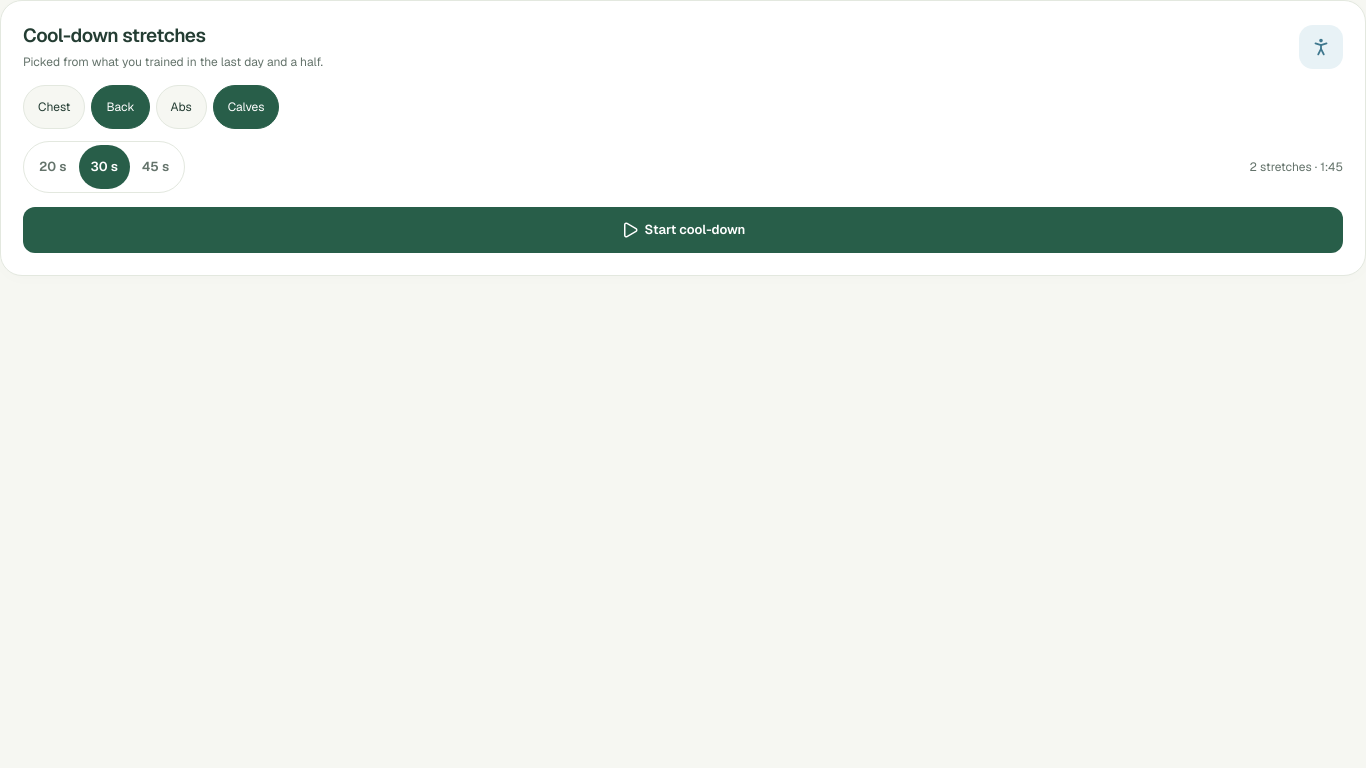
Test: Cool-down stretches › counts each side as its own hold
The width and height of the screenshot is (1366, 768).
Click the button "Start cool-down": point(683, 230) x1=23 y1=207 x2=1343 y2=253
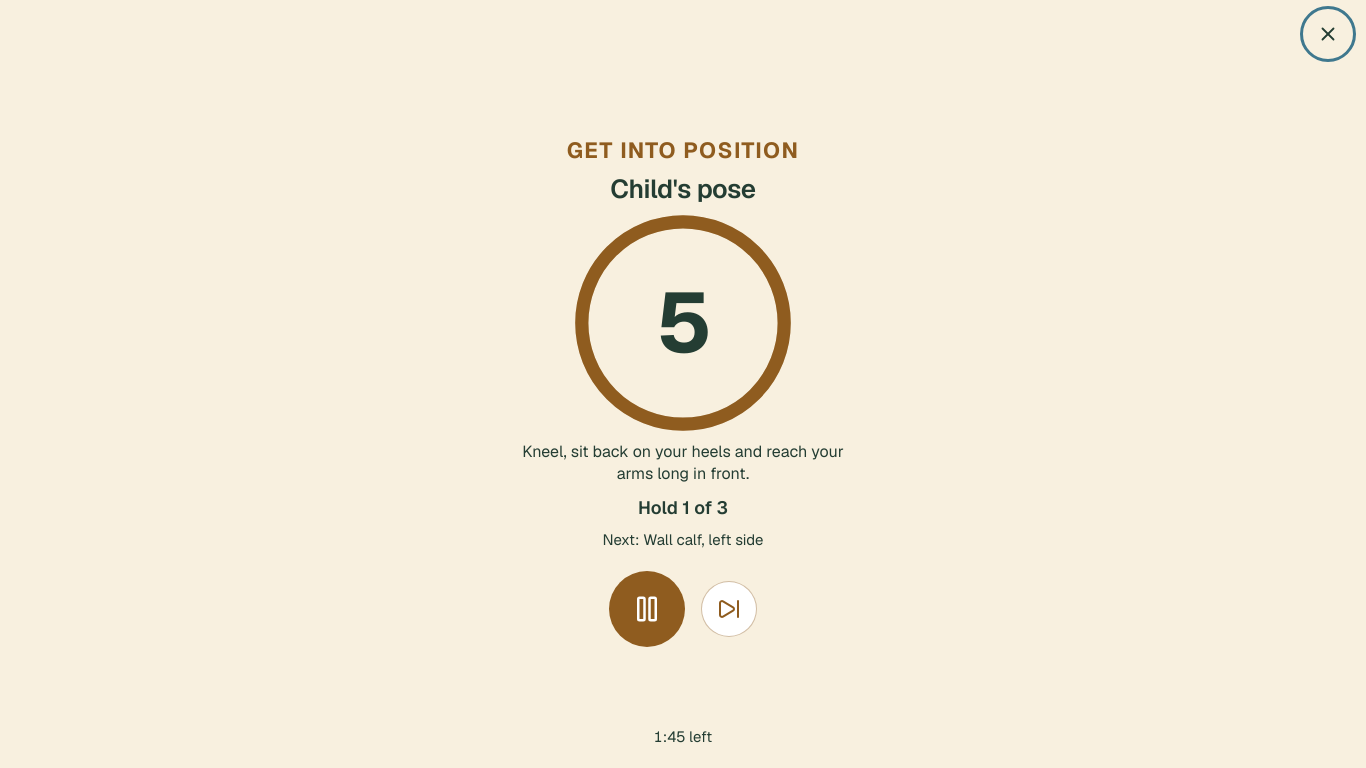
Check: the heading with class "stretch-name" reads "Child's pose", box x1=610 y1=172 x2=756 y2=206
Check: the text "Hold 1 of 3" is shown, box x1=638 y1=494 x2=728 y2=521
Check: the text "Next: Wall calf, left side" is shown, box x1=602 y1=529 x2=764 y2=551
